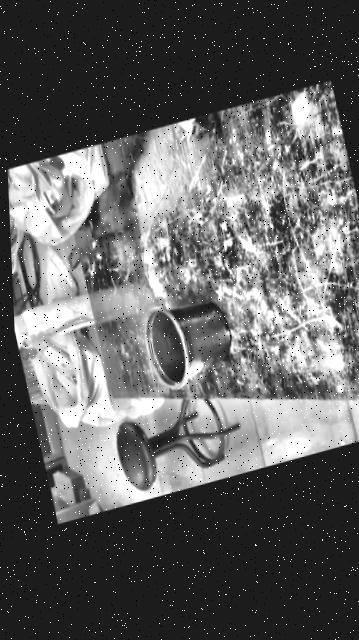pot: (138, 288, 237, 393)
